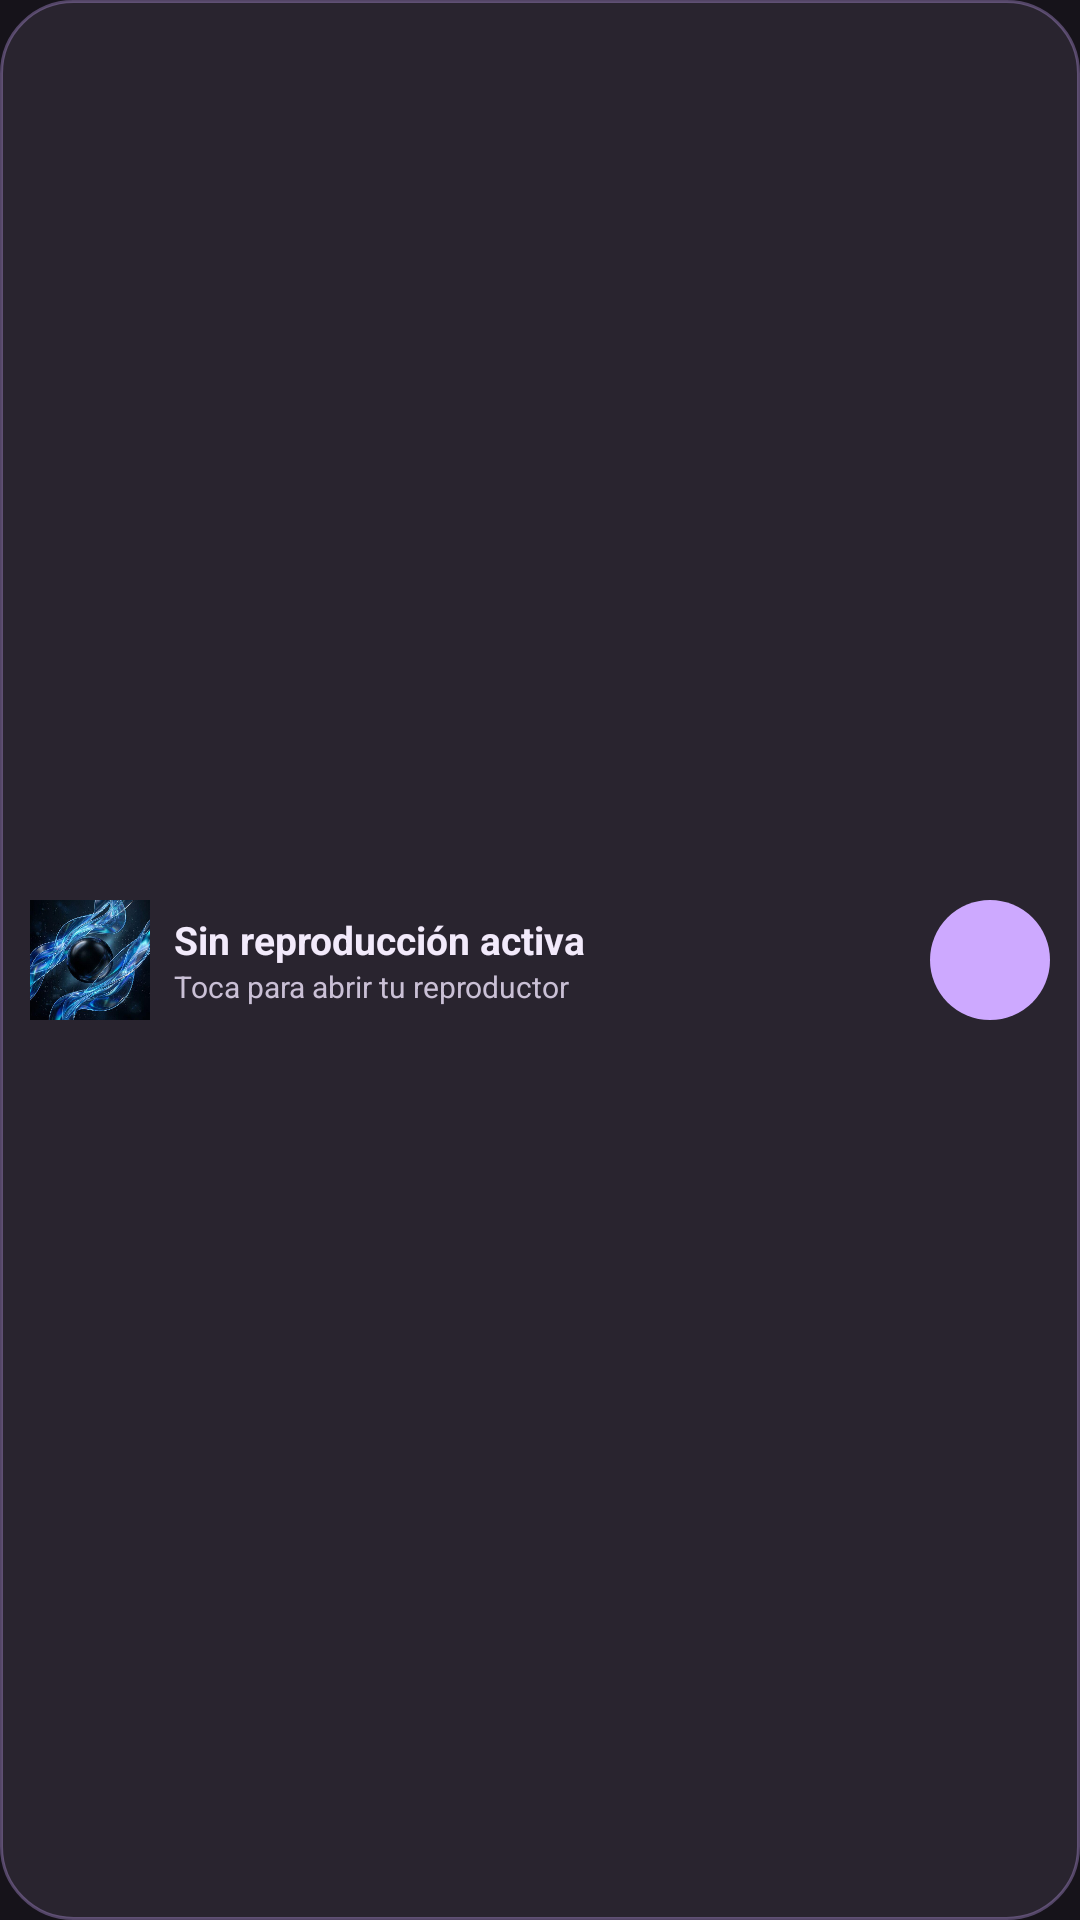

Where icons sit on this 1080w x 1920h app screen, as rect(x1, y1, x2, y2):
Carátula del álbum: rect(30, 900, 150, 1020)
